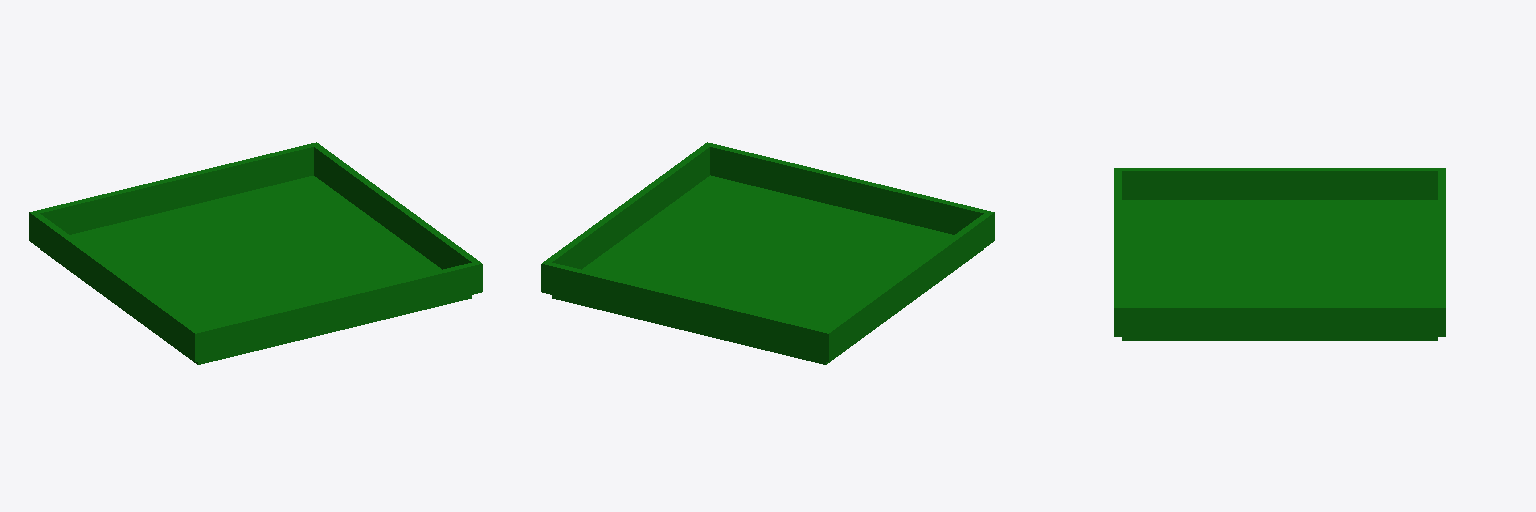
Rendered from Ground.obj.
3 renders of one model, left to right at view 1: azimuth 30°, elevation 25°; view 2: azimuth 150°, elevation 25°; view 3: azimuth 270°, elevation 25°, orthographic.
Parts seen in each view (by area): view 1: Cube; view 2: Cube; view 3: Cube.
Part boxes in pixels (x1,y1,x2,y2): Cube: (29, 142, 482, 364); Cube: (541, 142, 994, 364); Cube: (1114, 168, 1445, 340).
Size of the model in its own units: 42 by 5.02 by 42.